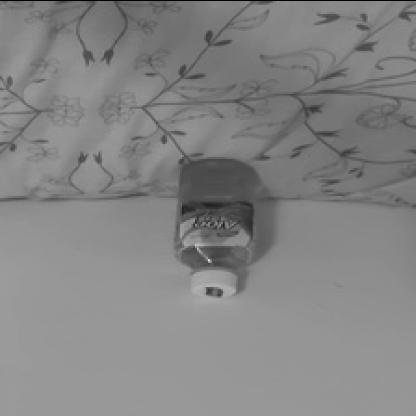plastic_bottles: (171, 152, 262, 306)
